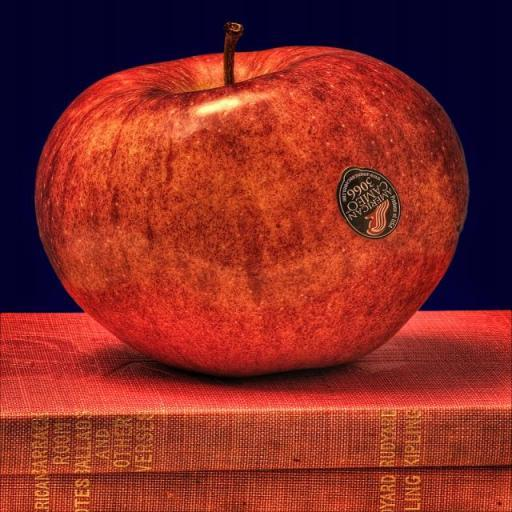fruit: (35, 47, 467, 374), (227, 25, 236, 39), (230, 64, 231, 70)
